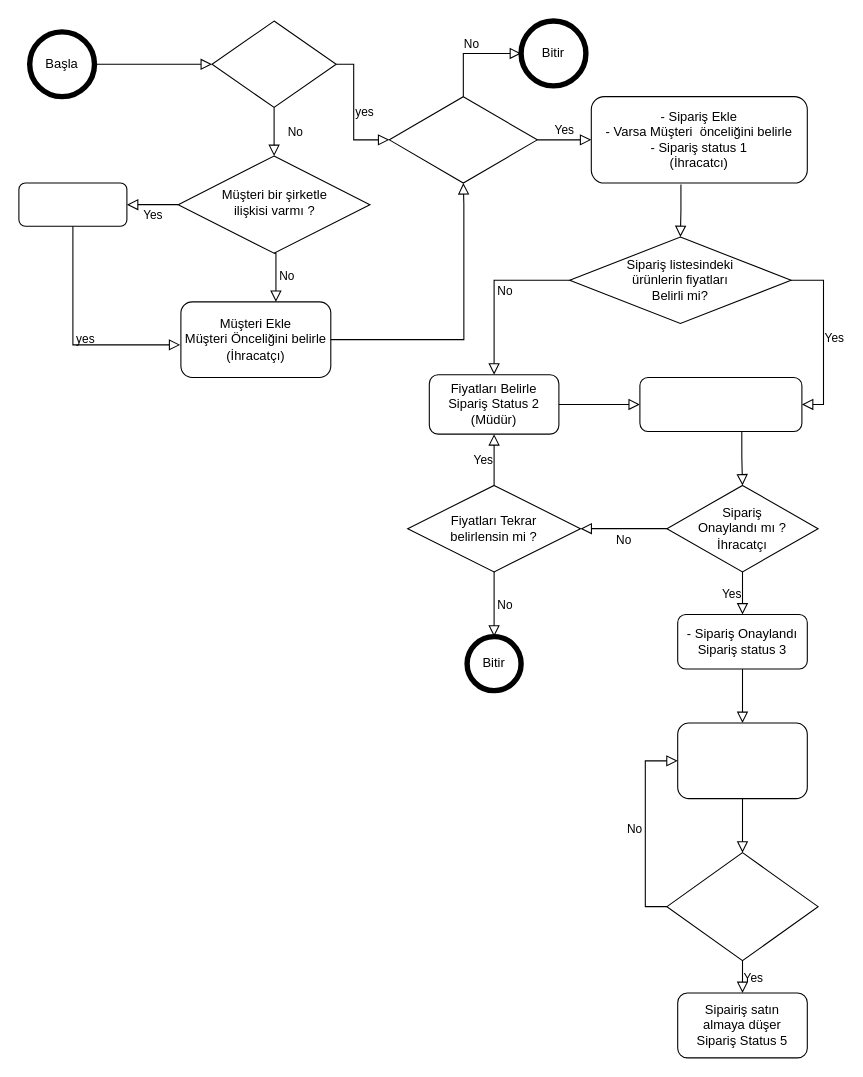
Some shapes in this 863 by 1077 pixel diagram are drawn without their labels. The shapes that lost their labels are listed below. From the top down, each one's centre as x and y in pixels, then its label:
At point (273, 63): "Müşteri Kaydı Var mı ?".
At point (462, 139): "Sipariş Oluşturulsun mu ?".
At point (72, 204): "Şirket Ekle (İhracatçı)".
At point (720, 403): "Siparişi onaylamak için Müşteri ile iletişime geç (İhracatçı)".
At point (742, 760): "- Siparişin %20 - %30 ödemesi alınacak (Muhasebe) Sipariş status 4".
At point (742, 906): "Sipariş ödemesi kontrol edilecek mi?".
